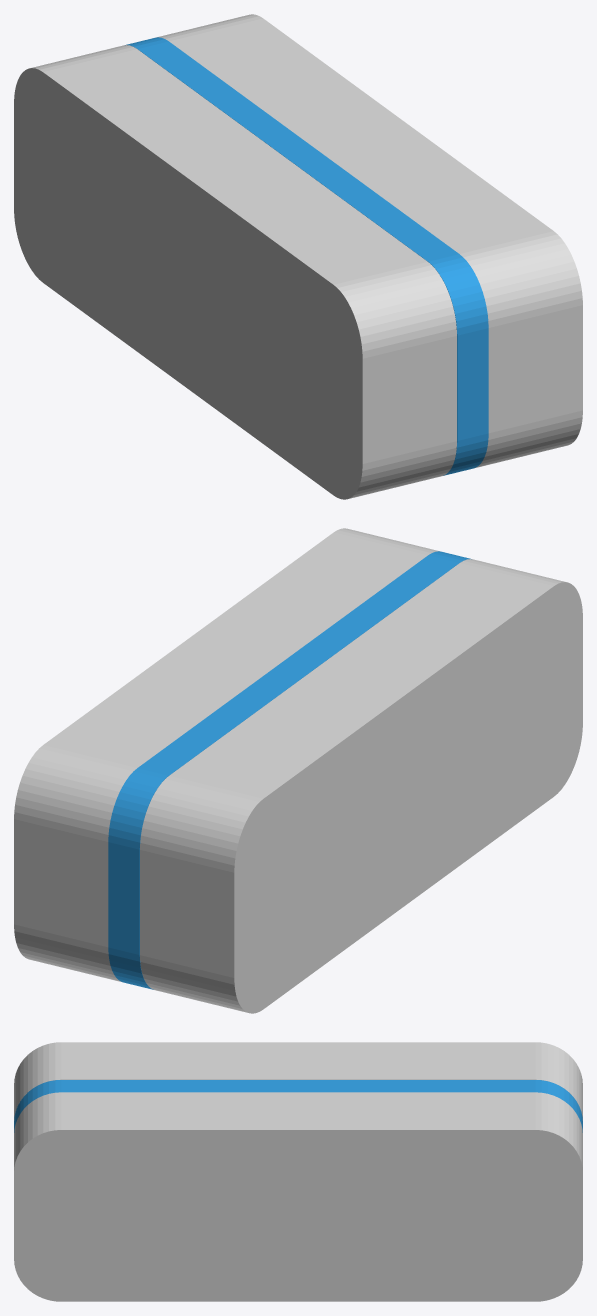
File: label_test_blender.fbx
3 renders of one model, top to bottom at view 1: azimuth 30°, elevation 25°; view 2: azimuth 150°, elevation 25°; view 3: azimuth 270°, elevation 25°, orthographic. The views are drawn at different scales.
Parts seen in each view (by area): view 1: LabelHighlightPlate_2, LabelHighlightPlate_1, LabelBackPlate; view 2: LabelHighlightPlate_2, LabelHighlightPlate_1, LabelBackPlate; view 3: LabelHighlightPlate_1, LabelHighlightPlate_2, LabelBackPlate.
Part boxes in pixels (<box>): LabelHighlightPlate_2: <box>14,45,456,499</box>; LabelHighlightPlate_1: <box>156,14,582,467</box>; LabelBackPlate: <box>125,37,488,475</box>; LabelHighlightPlate_2: <box>140,559,582,1013</box>; LabelHighlightPlate_1: <box>14,528,440,981</box>; LabelBackPlate: <box>108,551,471,989</box>; LabelHighlightPlate_1: <box>14,1092,582,1301</box>; LabelHighlightPlate_2: <box>14,1042,582,1120</box>; LabelBackPlate: <box>14,1080,582,1132</box>.
Bounding box in the file's own units: 3.5 × 3.2 × 9.6.
